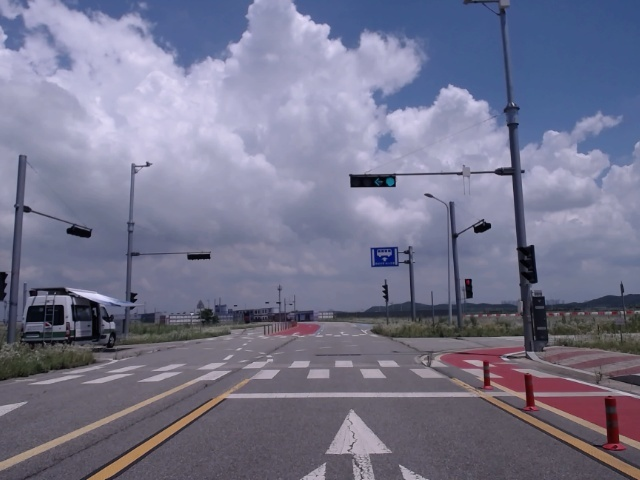all_green_4: (348, 176, 397, 187)
